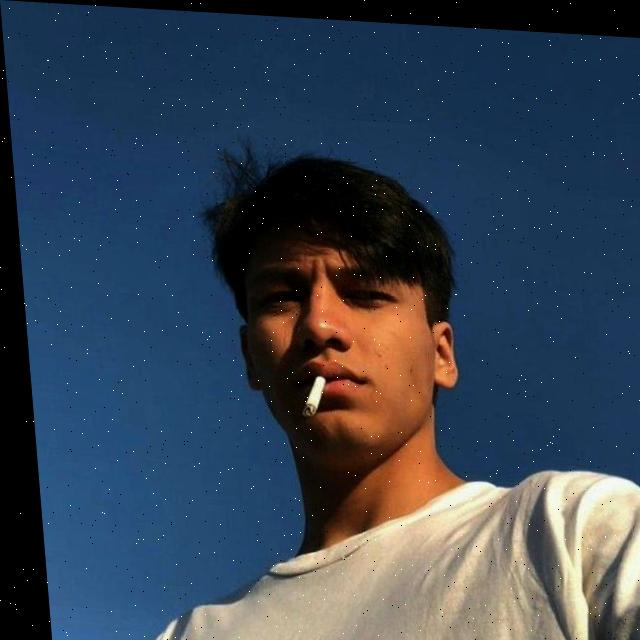cigarette: (295, 373, 322, 413)
